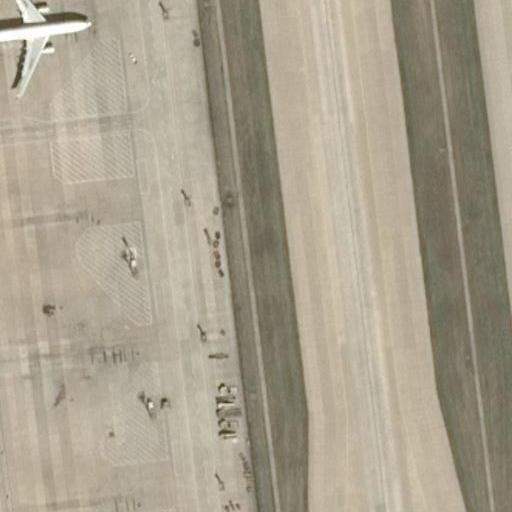Aircraft: (0, 0, 97, 89)
